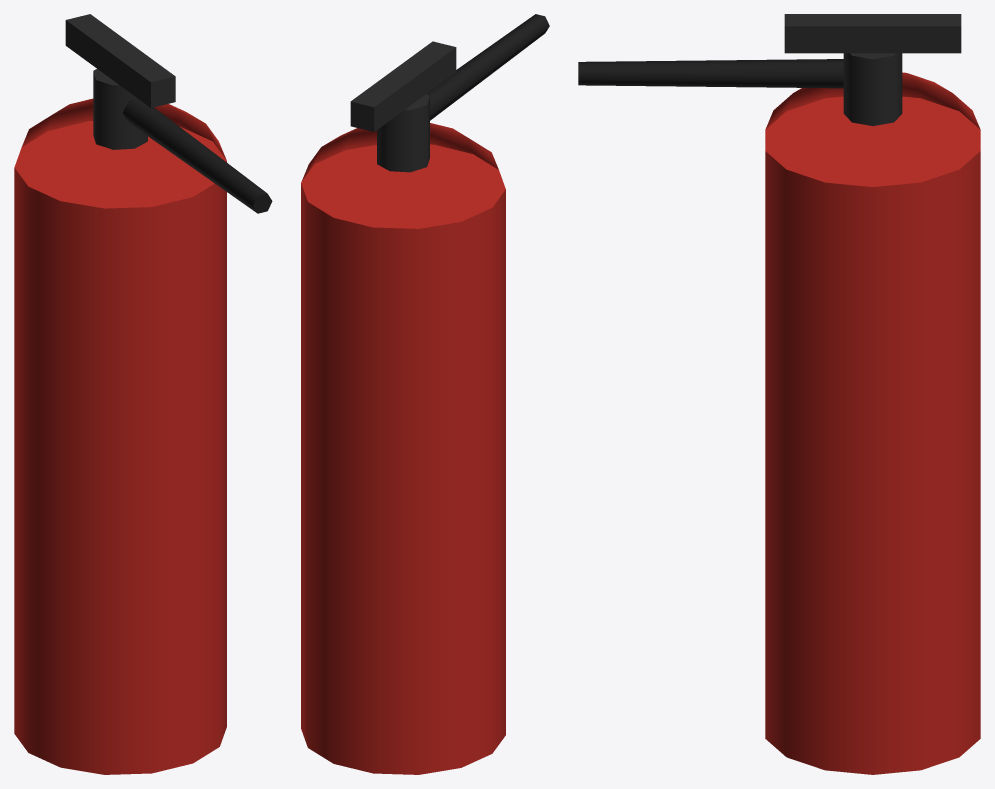
File: extinguisher.glb
3 renders of one model, left to right at view 1: azimuth 30°, elevation 25°; view 2: azimuth 150°, elevation 25°; view 3: azimuth 270°, elevation 25°, orthographic. The views are drawn at different scales.
Visible parts, largest first — view 1: extinguisher; view 2: extinguisher; view 3: extinguisher.
Boxes of the visible parts, x1,y1,x2,y2 form: extinguisher: (14,14,272,774); extinguisher: (301,14,549,774); extinguisher: (578,14,980,774).
Bounding box in the file's own units: 0.15 × 0.53 × 0.2731.
